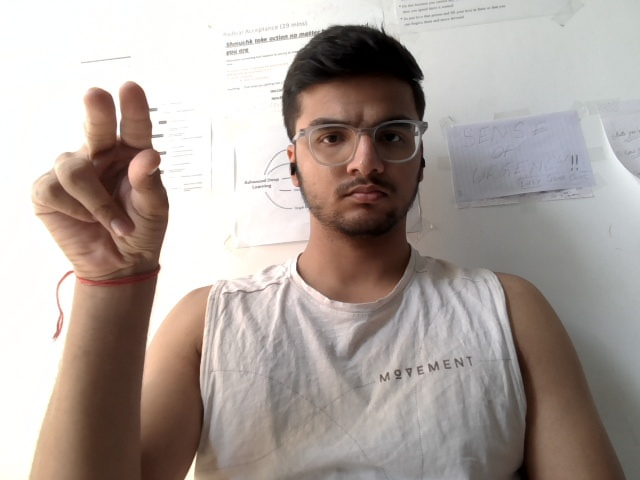no: (20, 54, 183, 302)
